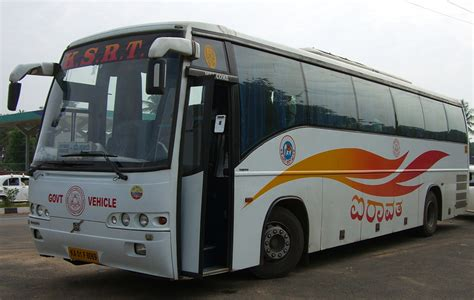bus: (19, 28, 468, 276)
